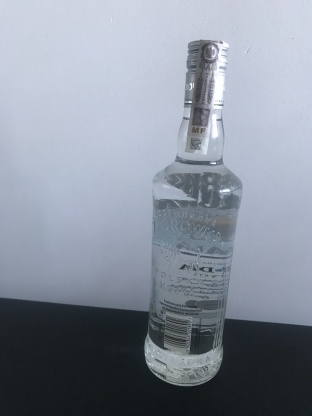nakretka: (181, 35, 231, 114)
